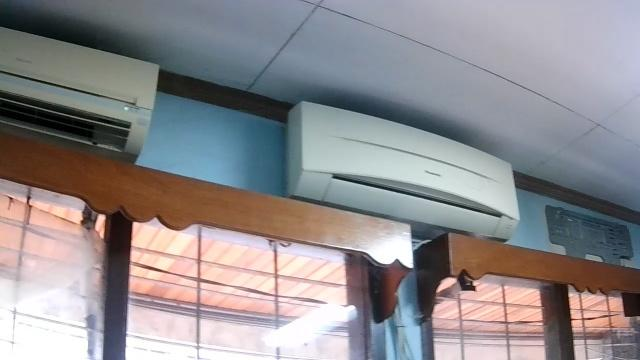AC: (285, 99, 519, 244), (0, 25, 159, 162)
